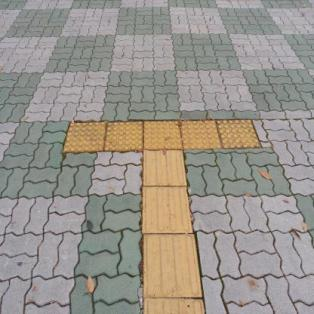Podoctatil: (56, 112, 264, 314)
